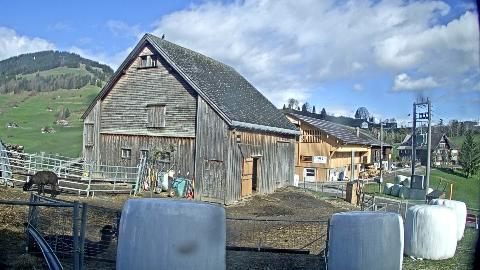car: (391, 164, 395, 170)
sheep: (38, 225, 118, 259), (22, 170, 58, 198)
